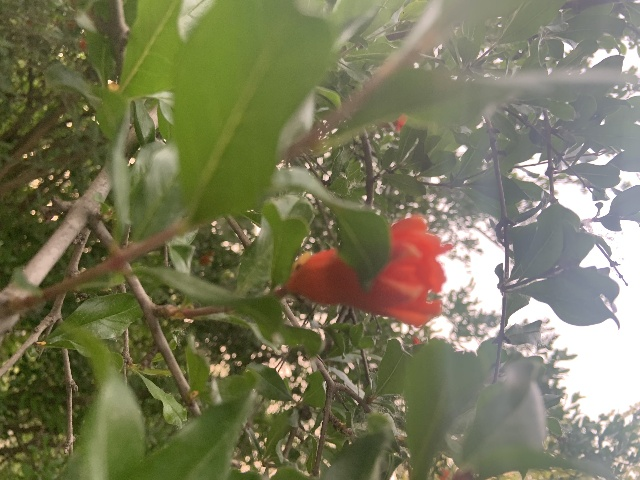flower: (285, 214, 451, 327)
